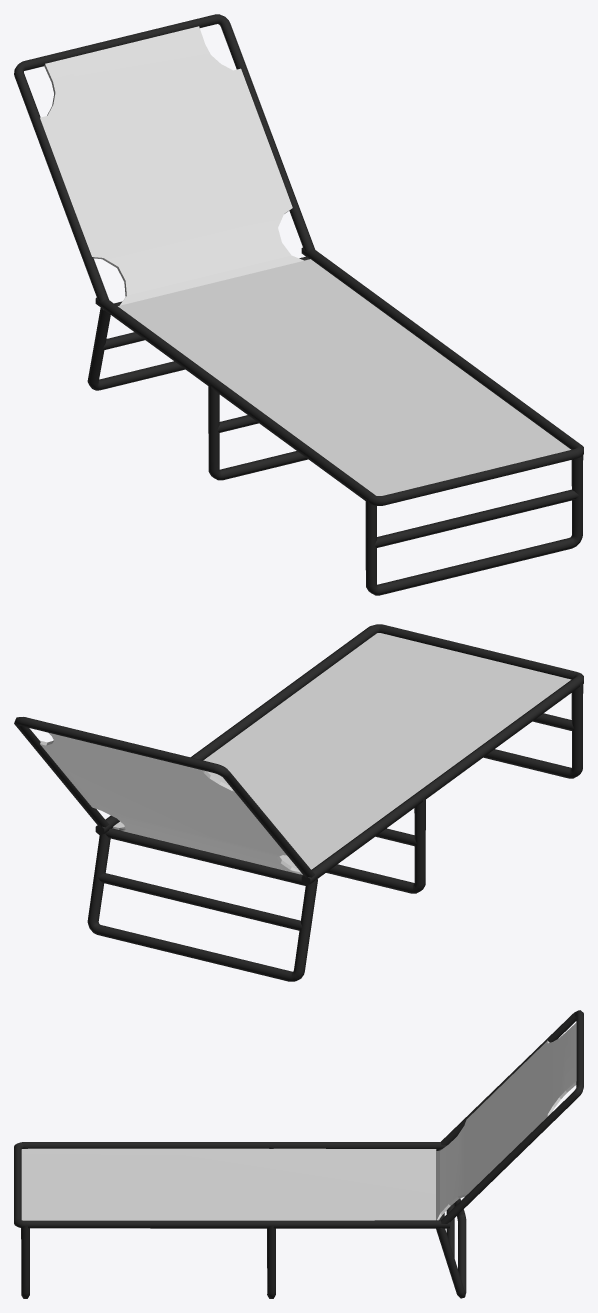
Rendered from sunbed.fbx.
3 views of the same model, one above another, from view 1: azimuth 30°, elevation 25°; view 2: azimuth 150°, elevation 25°; view 3: azimuth 270°, elevation 25° (orthographic). The views are drawn at different scales.
Parts seen in each view (by area): view 1: polySurface21, polySurface28, polySurface29, polySurface22, polySurface23, polySurface25, polySurface27; view 2: polySurface21, polySurface28, polySurface29, polySurface27, polySurface26, polySurface30, polySurface25, polySurface22; view 3: polySurface21, polySurface28, polySurface29, polySurface27, polySurface22, polySurface25.
Boxes of the visible parts, left/top/right/bottom form: polySurface21: left=40, top=26, right=570, bottom=495; polySurface28: left=95, top=247, right=583, bottom=505; polySurface29: left=14, top=14, right=315, bottom=302; polySurface22: left=365, top=448, right=583, bottom=595; polySurface23: left=374, top=489, right=579, bottom=547; polySurface25: left=208, top=333, right=417, bottom=480; polySurface27: left=87, top=307, right=185, bottom=390; polySurface21: left=40, top=633, right=571, bottom=874; polySurface28: left=95, top=624, right=583, bottom=885; polySurface29: left=14, top=717, right=314, bottom=877; polySurface27: left=87, top=833, right=317, bottom=981; polySurface26: left=97, top=873, right=302, bottom=930; polySurface30: left=105, top=828, right=305, bottom=885; polySurface25: left=217, top=747, right=425, bottom=893; polySurface22: left=374, top=631, right=583, bottom=778; polySurface21: left=21, top=1022, right=576, bottom=1220; polySurface28: left=14, top=1142, right=449, bottom=1228; polySurface29: left=440, top=1010, right=583, bottom=1223; polySurface27: left=436, top=1149, right=466, bottom=1298; polySurface22: left=21, top=1147, right=29, bottom=1298; polySurface25: left=267, top=1147, right=275, bottom=1298.
Bounding box in the file's own units: 68.93 × 83.83 × 203.
